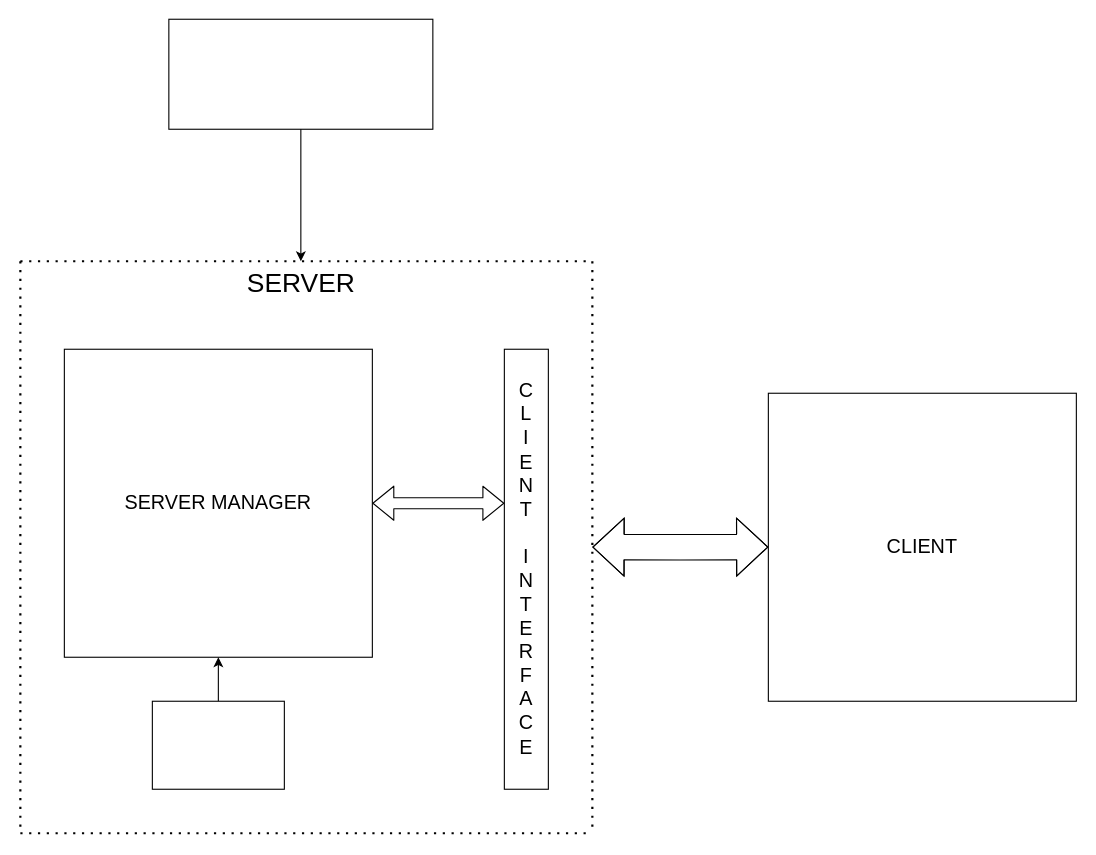
Some shapes in this 1096 by 855 pixel diagram are drawn without their labels. The shapes that lost their labels are listed below. From the top down, each one's centre as x and y in pixels, then its label:
At point 300,73: "main.py - start server manager".
At point 217,744: "TCPService".
